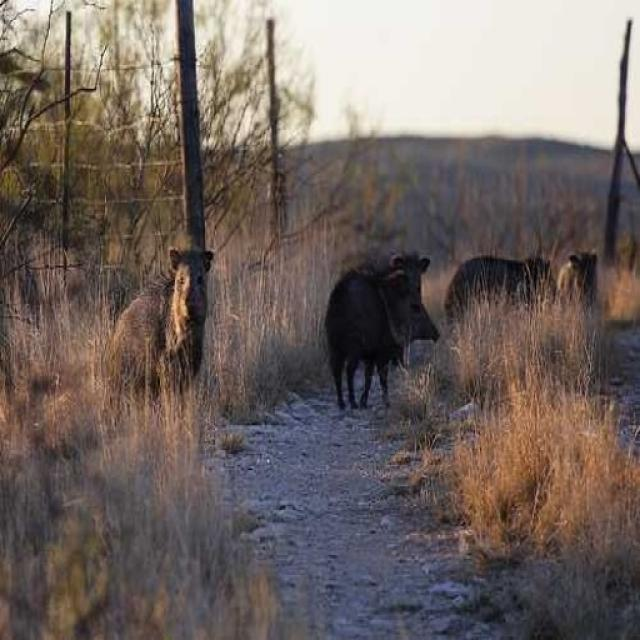pig: (316, 229, 427, 447)
